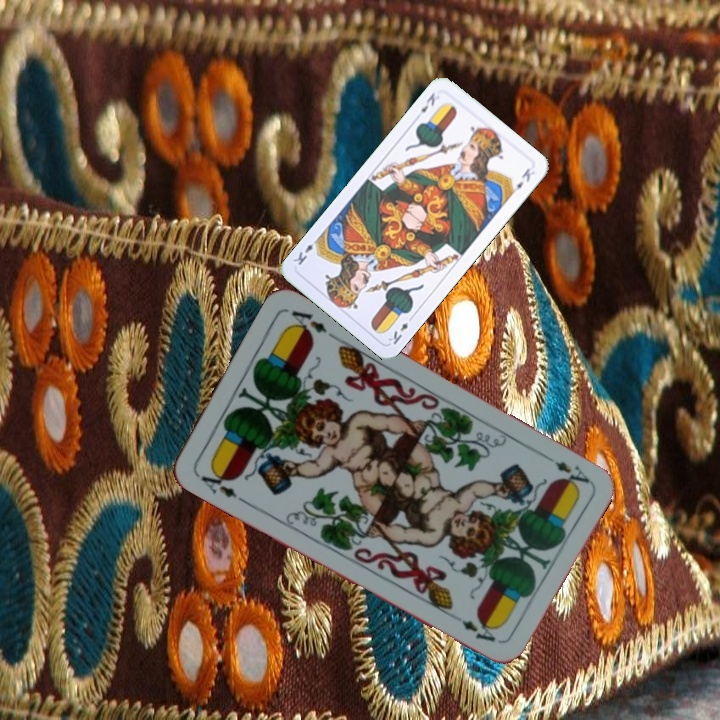EA: (193, 464, 247, 505), (550, 457, 593, 492)
EK: (384, 311, 416, 347), (417, 89, 438, 115)
